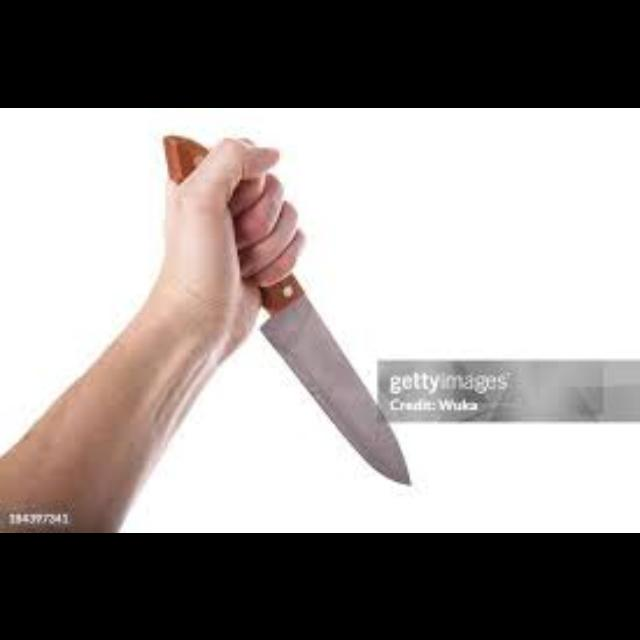Knife: (160, 132, 412, 484)
Person: (15, 148, 337, 532)
Weapon Holding: (168, 161, 304, 335)
